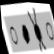correct: (20, 22, 32, 47)
not correct: (25, 5, 48, 54)
